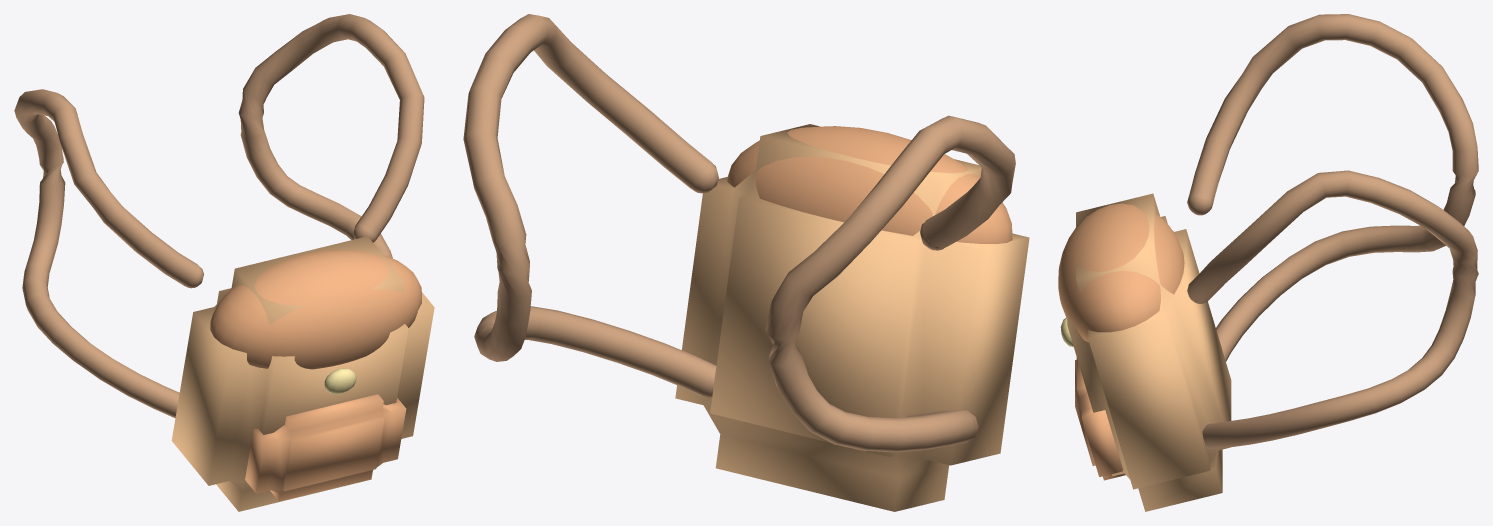
Rendered from little_backpack.glb.
3 views of the same model, side by side, from view 1: azimuth 30°, elevation 25°; view 2: azimuth 150°, elevation 25°; view 3: azimuth 270°, elevation 25° (orthographic). The views are drawn at different scales.
Visible parts, largest first — view 1: Body; view 2: Body; view 3: Body.
Part boxes in pixels (x1=…): Body: x1=14, y1=14, x2=434, y2=511; Body: x1=463, y1=14, x2=1029, y2=511; Body: x1=1058, y1=14, x2=1478, y2=511.
Bounding box in the file's own units: 0.4427 × 0.4477 × 0.4442.
